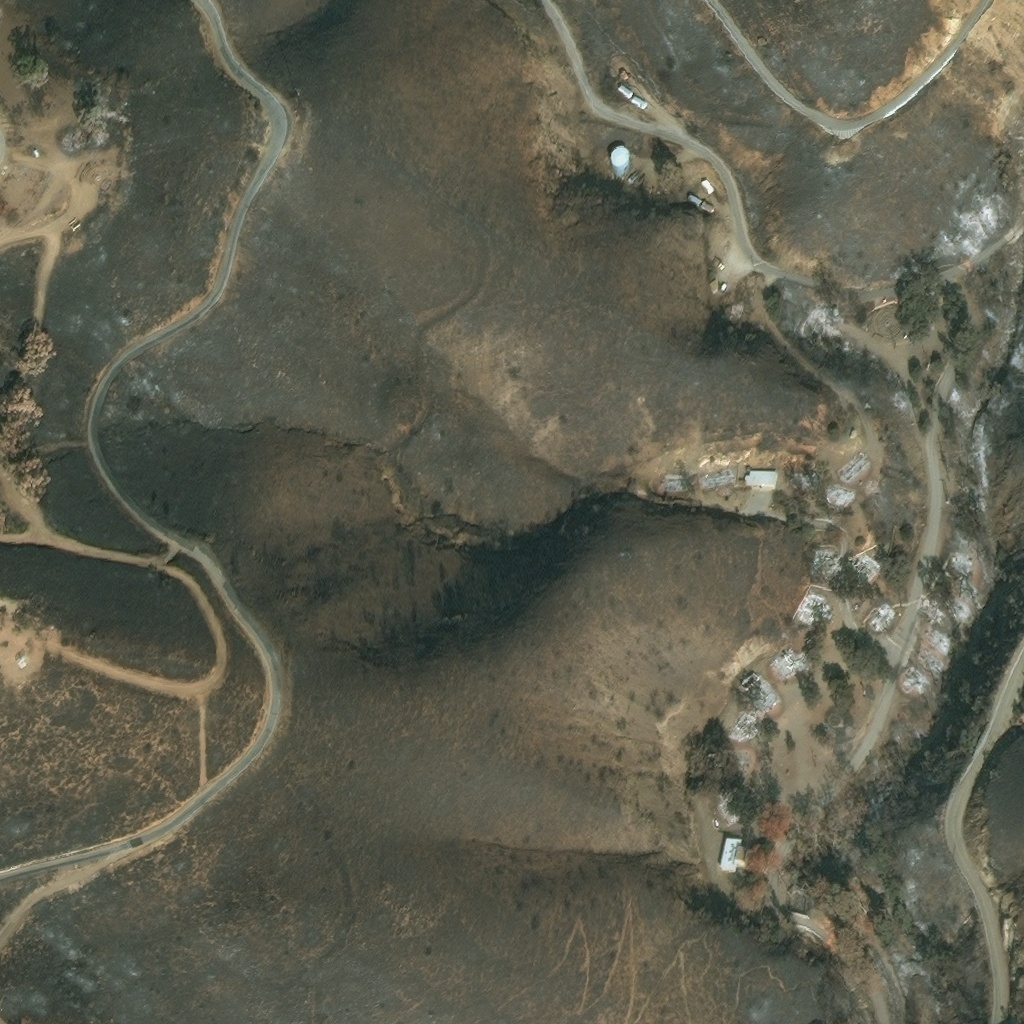0 no-damage: (686, 192, 716, 216), (744, 470, 778, 487), (611, 147, 630, 169), (612, 78, 628, 95), (627, 93, 645, 107), (700, 178, 715, 194), (626, 170, 641, 184), (618, 67, 628, 78), (638, 162, 648, 168)
1 minor-damage: (719, 836, 750, 871)
3 destroyed: (736, 668, 783, 712), (847, 553, 885, 591), (725, 705, 761, 743), (770, 647, 811, 678), (796, 590, 832, 623), (718, 792, 747, 826), (817, 477, 854, 503), (839, 453, 870, 483), (713, 748, 749, 771), (918, 591, 948, 618), (900, 659, 926, 690), (867, 605, 895, 630), (701, 469, 733, 490), (813, 547, 839, 571), (915, 640, 938, 662), (924, 618, 944, 642), (662, 474, 687, 489), (952, 544, 971, 562), (976, 259, 988, 272), (847, 432, 857, 442), (721, 487, 732, 496), (867, 480, 875, 490), (857, 482, 864, 489), (861, 489, 867, 494)
4 un-classified: (15, 656, 29, 670)
